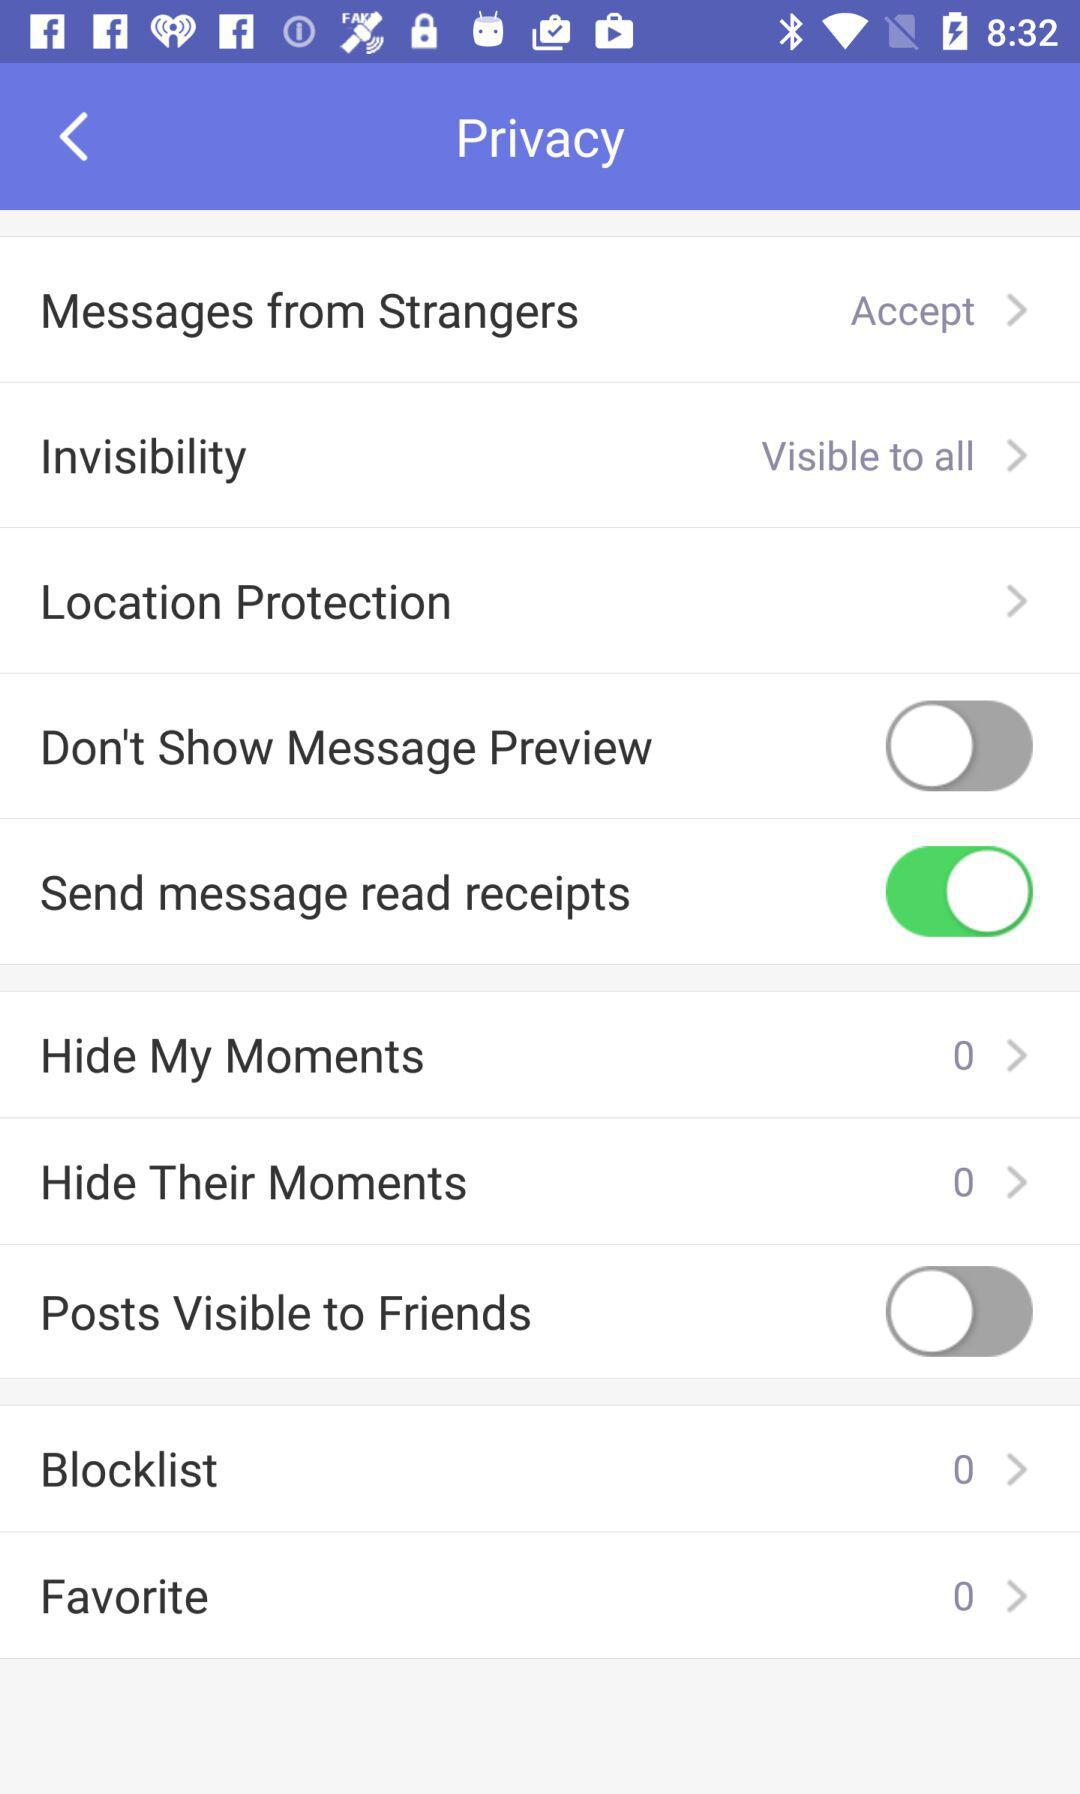Icon: (58, 111, 90, 164), (1004, 1451, 1030, 1488), (1004, 1037, 1030, 1074), (1003, 292, 1029, 329), (1004, 1577, 1029, 1615), (1004, 584, 1030, 619), (1004, 438, 1029, 474), (1006, 1164, 1029, 1201)
Switch: (885, 698, 1035, 793), (885, 1265, 1034, 1360), (885, 844, 1034, 939)
Text: (44, 727, 653, 777), (42, 873, 632, 923), (44, 291, 579, 340), (42, 1293, 532, 1333), (42, 1035, 425, 1084), (44, 1164, 468, 1203), (44, 583, 451, 621), (44, 436, 249, 486), (457, 117, 626, 170), (761, 440, 974, 473), (44, 1449, 219, 1489), (44, 1577, 210, 1616), (849, 296, 978, 334), (953, 1580, 974, 1612), (954, 1041, 975, 1073), (954, 1453, 974, 1486), (954, 1166, 974, 1199)
Toolbar: (1, 64, 1080, 211)
UpperTaskBar: (1, 1, 1080, 64)
